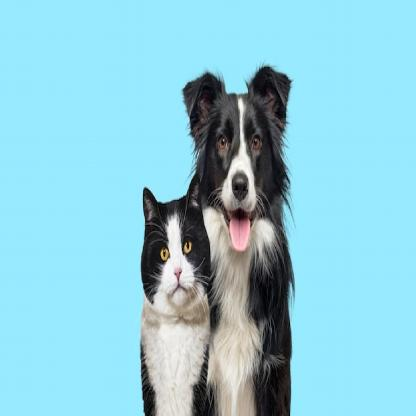cat: (125, 183, 215, 327)
dog: (188, 61, 319, 256)
